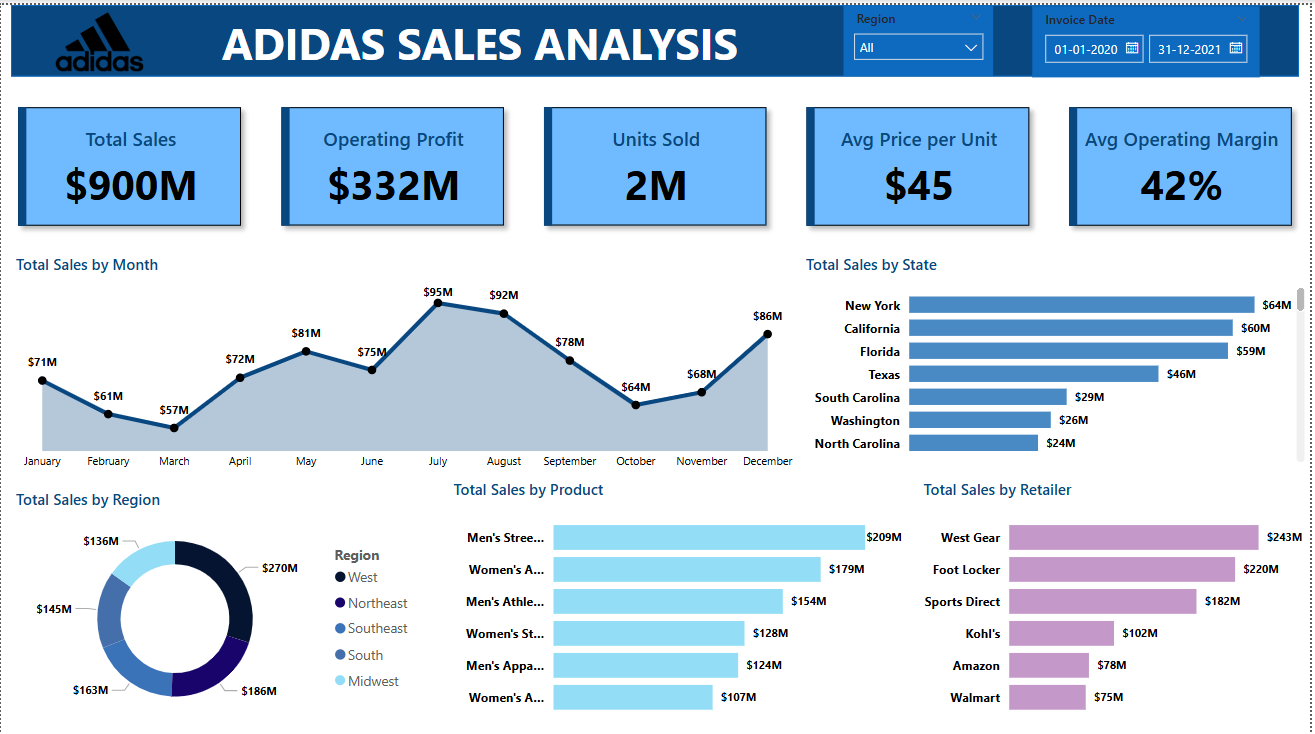

Layout of this report page (visuals, bound fields, positions):
{"tool":"powerbi","page":{"name":"Adidas Dashboard","canvas":[1280,720],"ordinal":0},"visuals":[{"type":"shape","box":[10,0,1260,70],"z":0},{"type":"textbox","box":[172.4,2.4,591.9,68.5],"z":1000},{"type":"cardVisual","fields":{"Data":["Sum(Data Sales Adidas.Total Sales)","Sum(Data Sales Adidas.Operating Profit)","Sum(Data Sales Adidas.Units Sold)","Avg(Data Sales Adidas.Price per Unit)","Avg(Data Sales Adidas.Operating Margin)"]},"box":[0,83.2,1280.3,150.4],"z":2000},{"type":"areaChart","title":"Total Sales by Month","fields":{"Category":["Data Sales Adidas.Invoice Date.Variation.Date Hierarchy.Month"],"Y":["Sum(Data Sales Adidas.Total Sales)"]},"box":[9.8,243.3,772.8,220.1],"z":3000},{"type":"barChart","title":"Total Sales by State","fields":{"Category":["Data Sales Adidas.State"],"Y":["Sum(Data Sales Adidas.Total Sales)"]},"box":[782.6,243.3,497.7,209.1],"z":4000},{"type":"donutChart","fields":{"Y":["Sum(Data Sales Adidas.Total Sales)"],"Category":["Data Sales Adidas.Region"]},"box":[9.8,473.2,402.3,234.8],"z":5000},{"type":"barChart","title":"Total Sales by Product","fields":{"Category":["Data Sales Adidas.Product"],"Y":["Sum(Data Sales Adidas.Total Sales)"]},"box":[437.8,463.5,448.8,244.6],"z":6000},{"type":"barChart","title":"Total Sales by Retailer","fields":{"Y":["Sum(Data Sales Adidas.Total Sales)"],"Category":["Data Sales Adidas.Retailer"]},"box":[897.6,463.5,382.7,244.6],"z":7000},{"type":"slicer","fields":{"Values":["Data Sales Adidas.Region"]},"box":[824.2,0,146.7,69.7],"z":8000},{"type":"slicer","fields":{"Values":["Data Sales Adidas.Invoice Date"]},"box":[1008.8,1.2,222.6,69.7],"z":9000},{"type":"image","box":[20.8,2.4,151.6,67.3],"z":10000}]}

Visuals, with their boxes in screenshot pixels (x1, y1, x2, y2), scaled from the page's 1280x720 canvas onto the 1315x734 screenshot:
shape: bbox(10, 0, 1305, 71)
textbox: bbox(177, 2, 785, 72)
cardVisual - Sum(Data Sales Adidas.Total Sales) x Sum(Data Sales Adidas.Operating Profit): bbox(0, 85, 1314, 238)
"Total Sales by Month" areaChart: bbox(10, 248, 804, 472)
"Total Sales by State" barChart: bbox(804, 248, 1314, 461)
donutChart - Sum(Data Sales Adidas.Total Sales) x Data Sales Adidas.Region: bbox(10, 482, 423, 722)
"Total Sales by Product" barChart: bbox(450, 473, 911, 722)
"Total Sales by Retailer" barChart: bbox(922, 473, 1314, 722)
slicer - Data Sales Adidas.Region: bbox(847, 0, 997, 71)
slicer - Data Sales Adidas.Invoice Date: bbox(1036, 1, 1265, 72)
image: bbox(21, 2, 177, 71)
